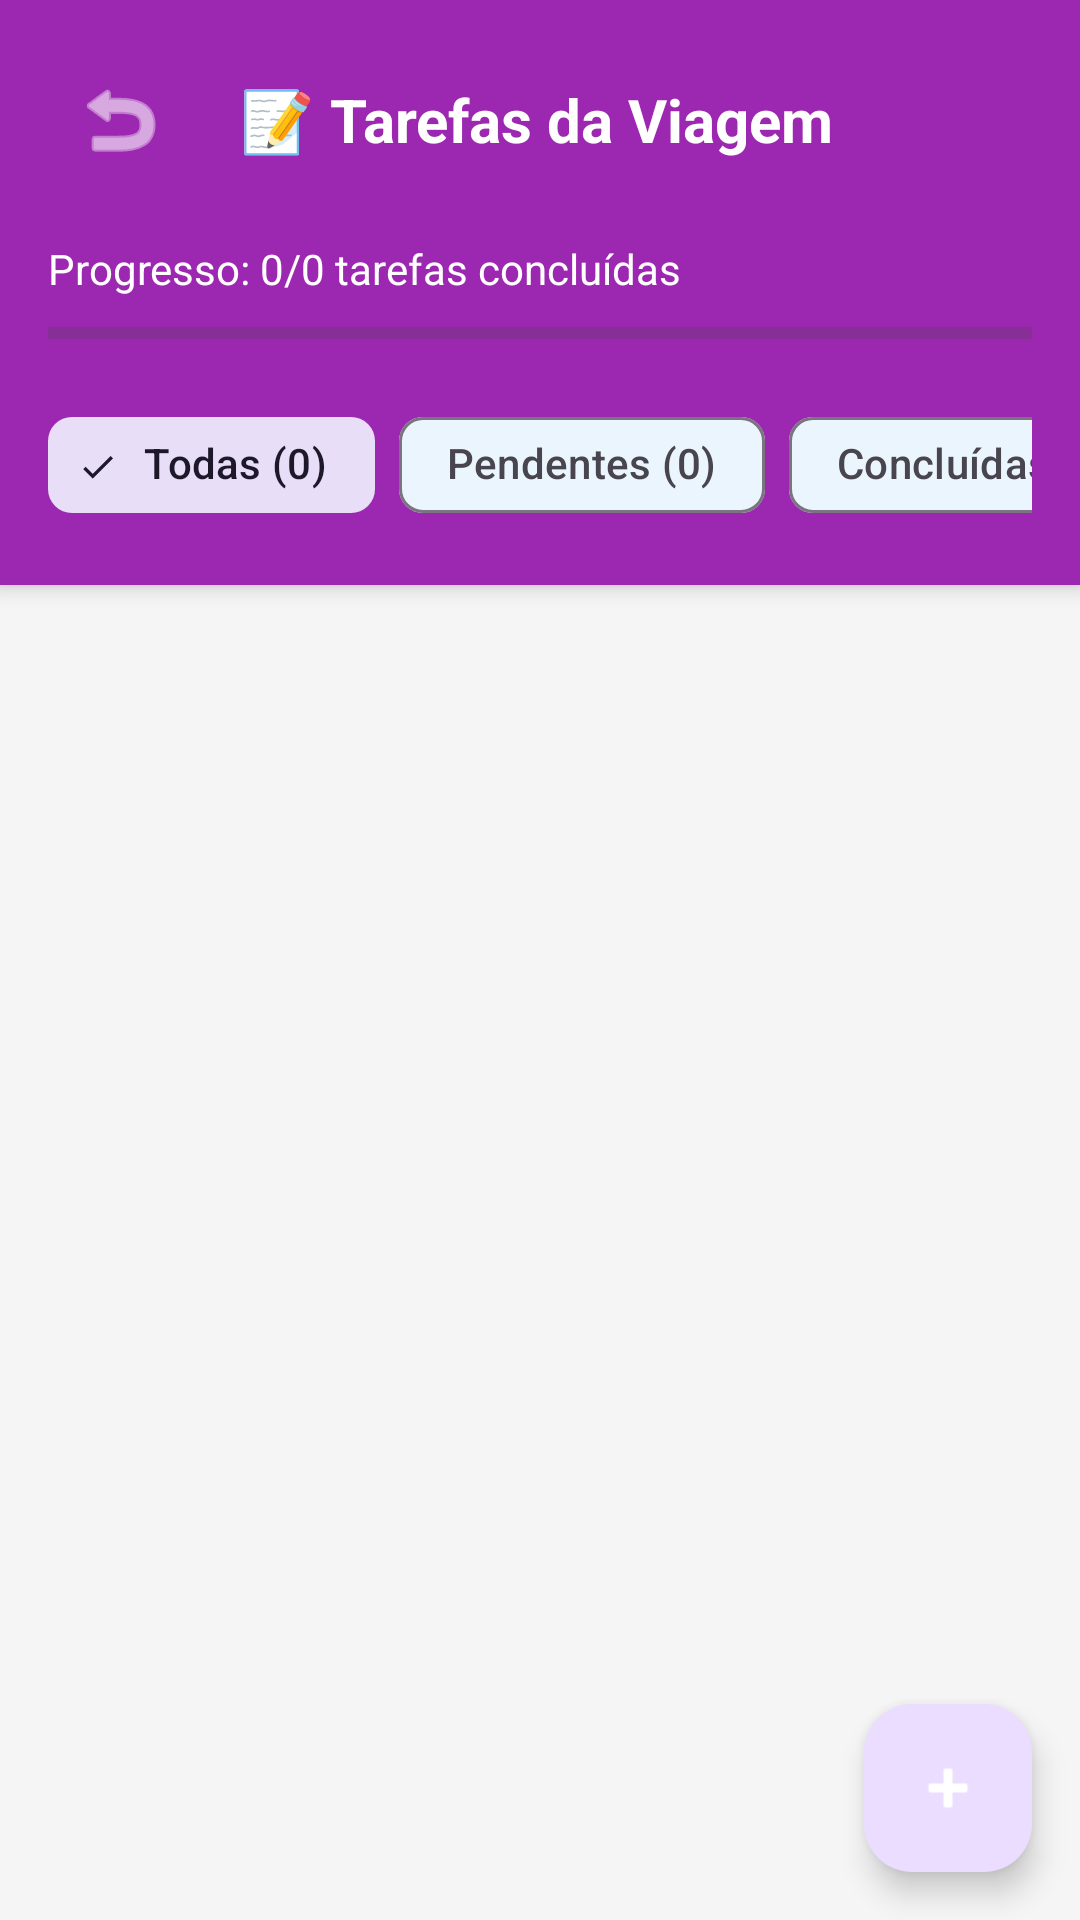

Locate icon controls on the screen. Image size 1080px x 1920px, boxes as bbox(x1, y1, x2, y2).
Adicionar Tarefa: bbox(864, 1704, 1032, 1872)
Voltar: bbox(87, 89, 156, 152)
